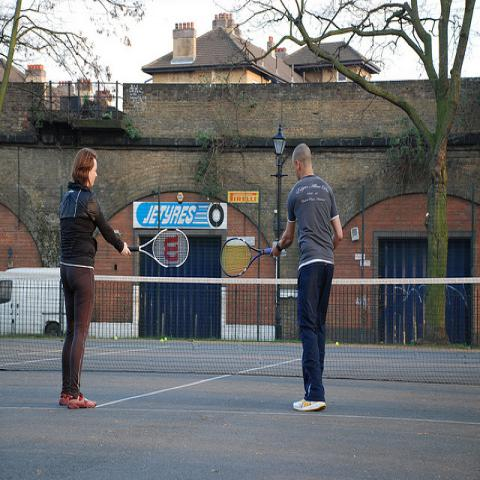truck: (0, 267, 68, 336)
